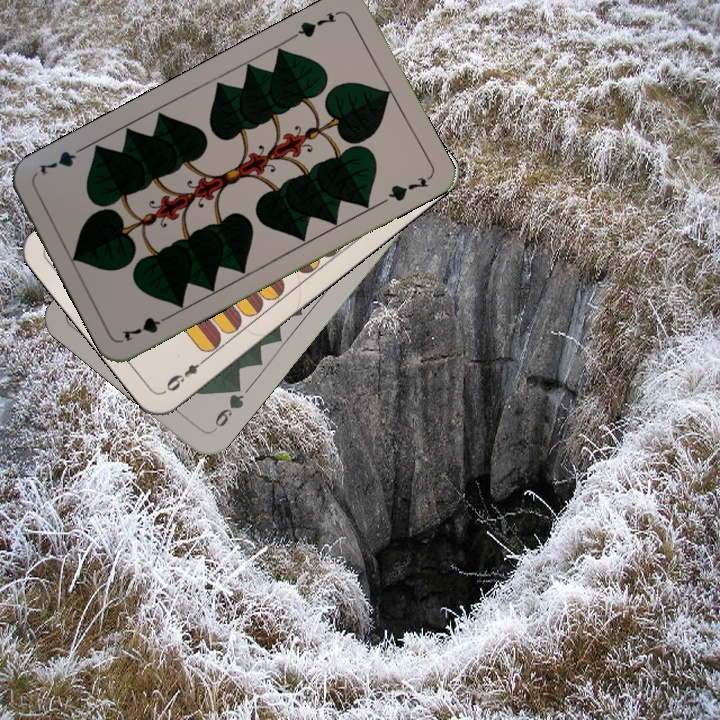E9: (160, 353, 210, 396)
G7: (118, 310, 176, 345), (288, 7, 343, 41)
G9: (209, 379, 247, 434)
